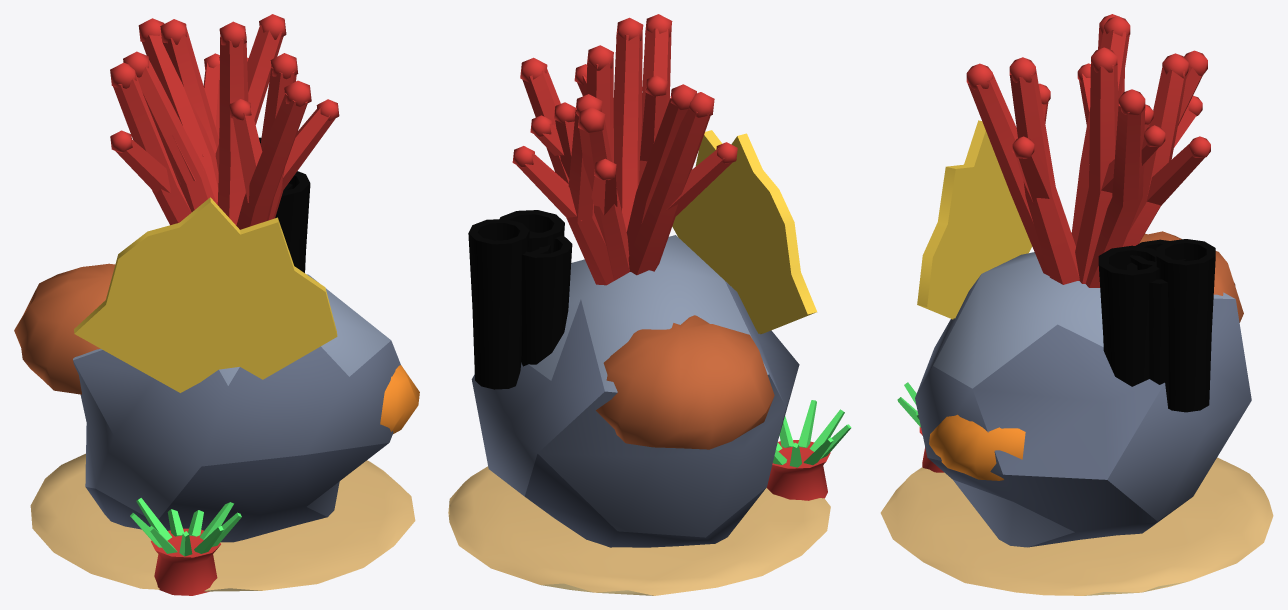
The model's file is CoralReefB.fbx.
3 views of the same model, side by side, from view 1: azimuth 30°, elevation 25°; view 2: azimuth 150°, elevation 25°; view 3: azimuth 270°, elevation 25° (orthographic).
Parts seen in each view (by area): view 1: CoralReefB; view 2: CoralReefB; view 3: CoralReefB.
Boxes of the visible parts, bbox=[...] form: CoralReefB: bbox=[14, 14, 419, 595]; CoralReefB: bbox=[448, 14, 851, 595]; CoralReefB: bbox=[880, 14, 1273, 595].
Size of the model in its own units: 1.69 by 2.31 by 1.72.
1 material, 1 textured.
